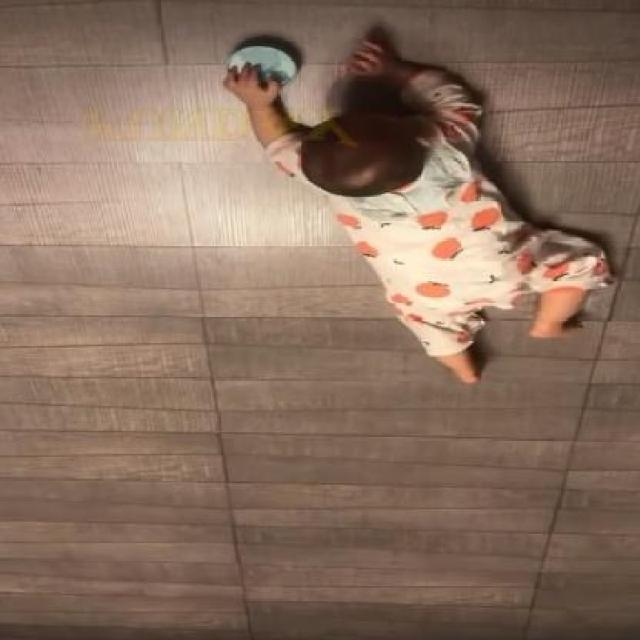baby: (220, 33, 612, 384)
